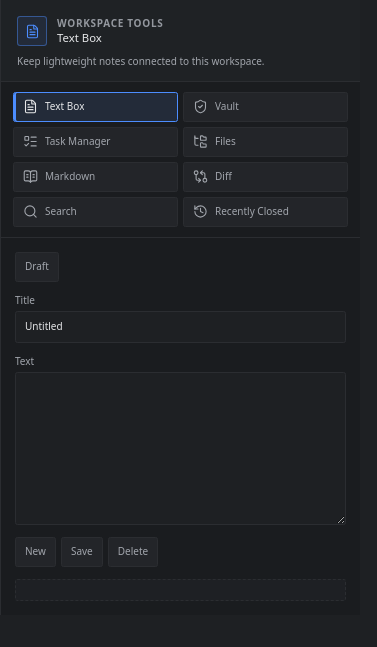
Test: RightSidebar › shows a TextBox conflict without replacing the editor contents
Click the button "Draft".
click(37, 266)  # box [15,252,59,282]
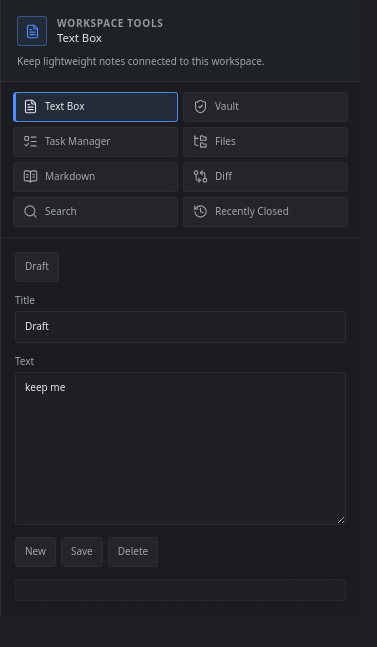
Replace the text in the text box labelled "Text" with "unsaved text" at (180, 448), box [15,372,346,525]
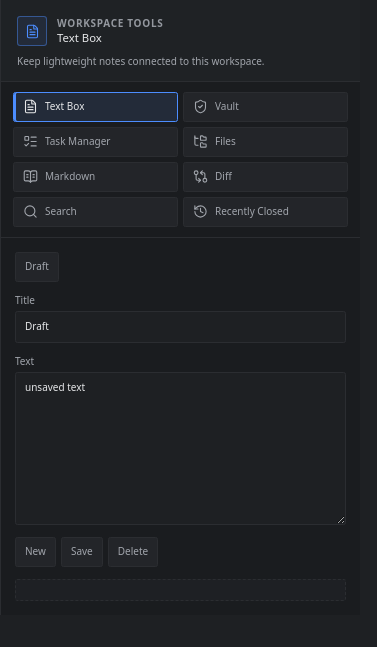
Click the button "Save".
click(82, 552)  # box [61,537,103,567]
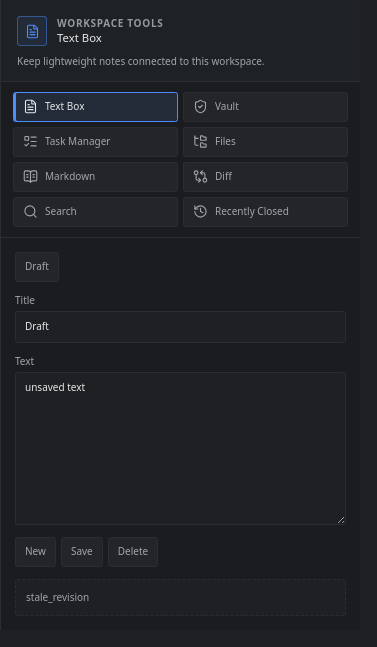
Check: the message reads "stale_revision", box [26,590,89,604]
